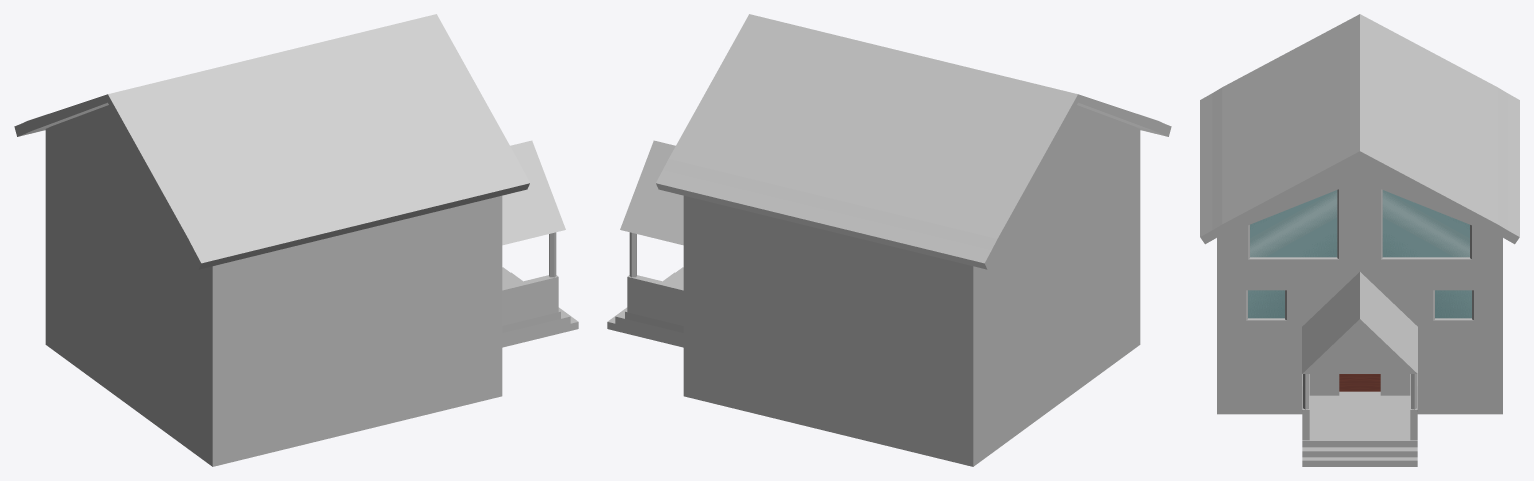
File: House.fbx
The picture shows the model from 3 angles, left to right: view 1: azimuth 30°, elevation 25°; view 2: azimuth 150°, elevation 25°; view 3: azimuth 270°, elevation 25°; orthographic projection. The views are drawn at different scales.
Parts seen in each view (by area): view 1: Cube; view 2: Cube; view 3: Cube.
Part boxes in pixels (x1,y1,x2,y2): Cube: [14, 14, 578, 466]; Cube: [607, 14, 1171, 466]; Cube: [1200, 14, 1519, 466].
Bounding box in the file's own units: 2031 × 1506 × 1407.
